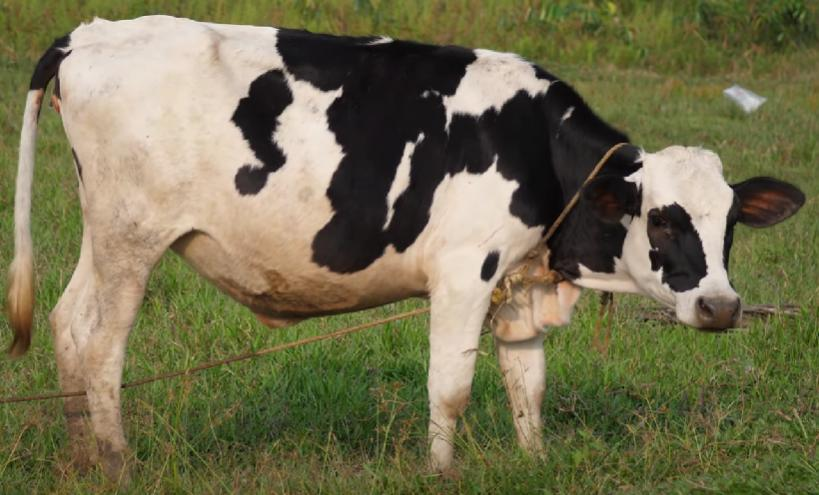cow: (58, 21, 804, 481)
